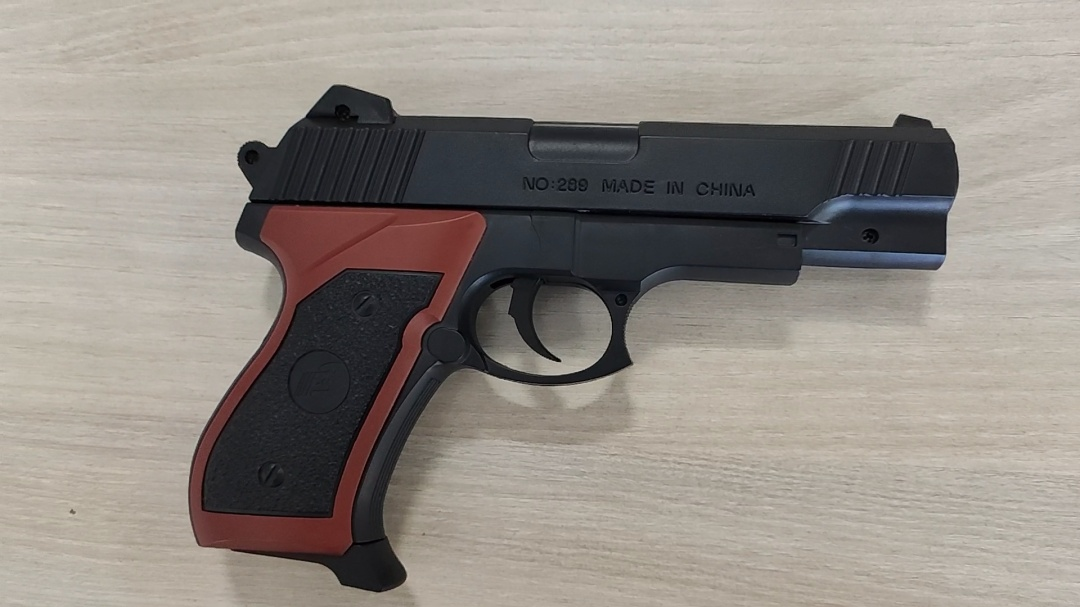gun: (464, 204, 587, 279)
